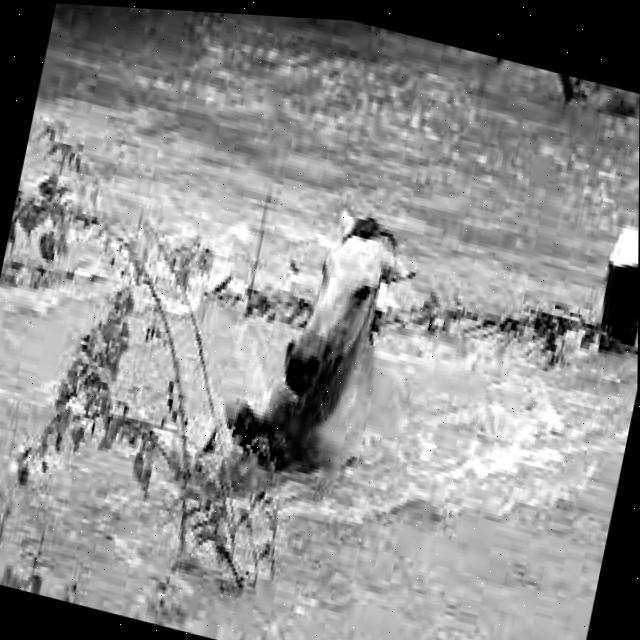horse: (208, 182, 463, 507)
